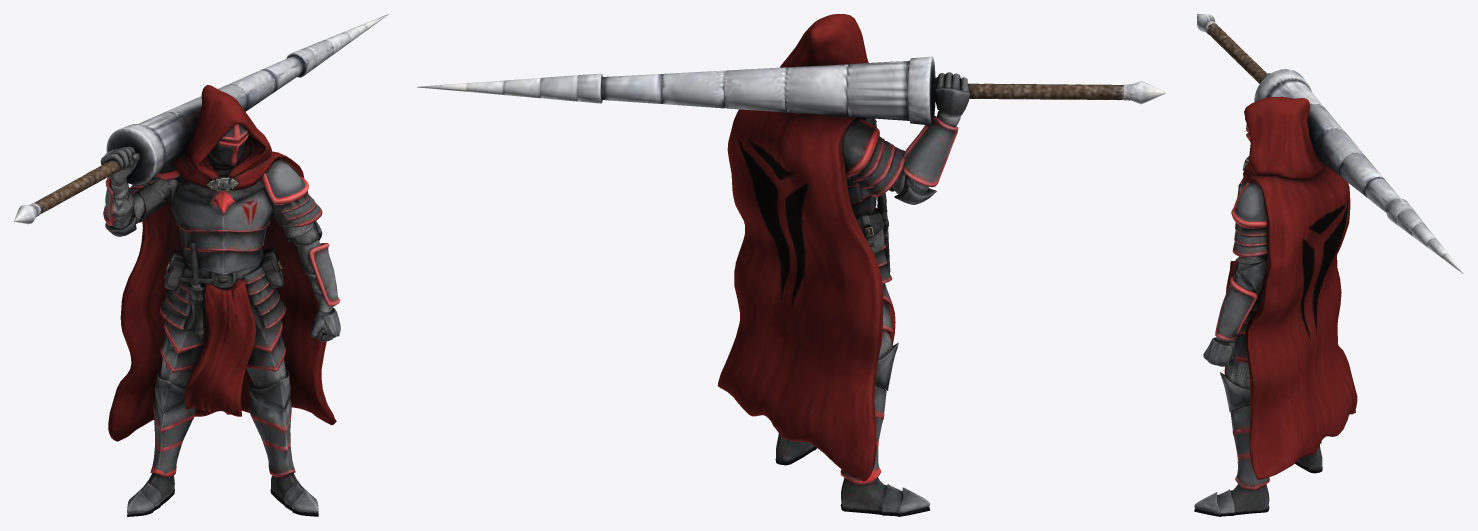
File: MZ4250 - Human Male Paladin_Asmodeus.glb
3 renders of one model, left to right at view 1: azimuth 30°, elevation 25°; view 2: azimuth 150°, elevation 25°; view 3: azimuth 270°, elevation 25°, orthographic. The views are drawn at different scales.
Parts seen in each view (by area): view 1: Body.002; view 2: Body.002; view 3: Body.002.
Boxes of the visible parts, x1,y1,x2,y2 form: Body.002: [14, 14, 388, 516]; Body.002: [417, 14, 1165, 516]; Body.002: [1194, 14, 1463, 516].
Size of the model in its own units: 121 by 91.35 by 57.37.
Materials: 4 (4 with a texture image).
